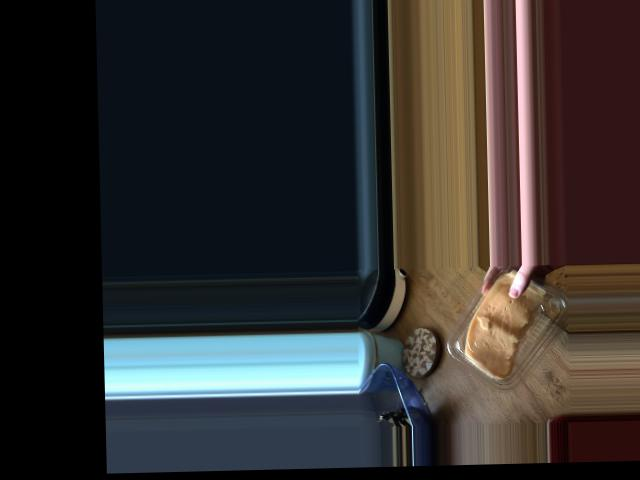cheese: (434, 274, 566, 405)
